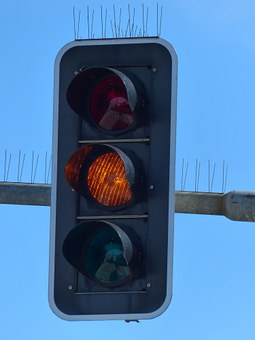trafic: (54, 39, 173, 316)
